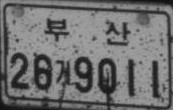0: (96, 56, 117, 95)
1: (121, 58, 140, 97), (145, 59, 164, 98)
2: (9, 51, 29, 89)
6: (32, 52, 52, 90)
9: (72, 55, 93, 93)
거: (54, 59, 71, 85)
부산_D: (43, 16, 132, 46)
